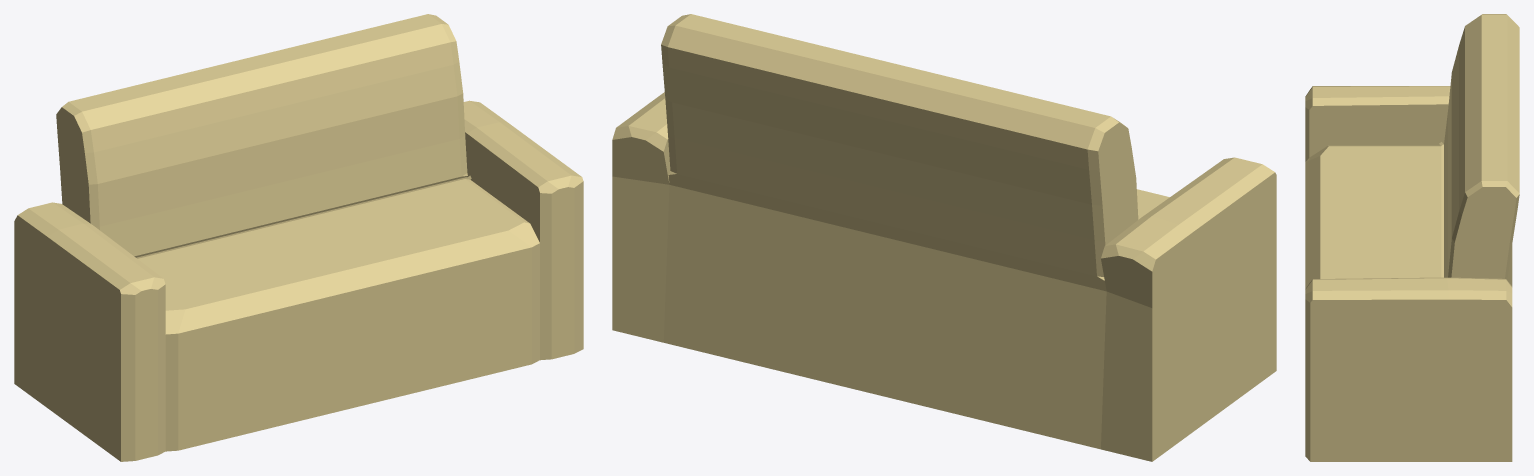
File: couch(2).fbx
3 views of the same model, side by side, from view 1: azimuth 30°, elevation 25°; view 2: azimuth 150°, elevation 25°; view 3: azimuth 270°, elevation 25° (orthographic). The views are drawn at different scales.
Visible parts, largest first — view 1: Cube; view 2: Cube; view 3: Cube.
Part boxes in pixels (x1=…): Cube: x1=14, y1=14, x2=583, y2=461; Cube: x1=612, y1=14, x2=1276, y2=461; Cube: x1=1305, y1=14, x2=1519, y2=461.
Size of the model in its own units: 233 by 131 by 99.
